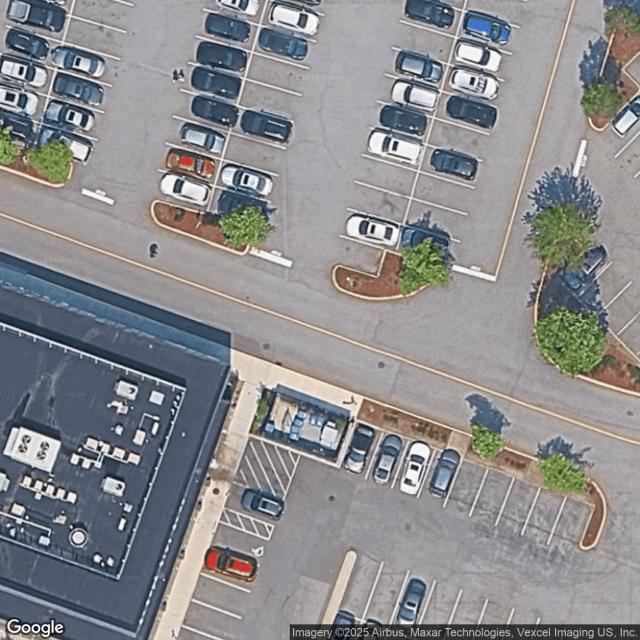car: (6, 0, 70, 37), (36, 126, 93, 167), (443, 92, 501, 132), (367, 129, 424, 169), (376, 102, 433, 142), (392, 48, 449, 88), (446, 64, 503, 104), (387, 76, 445, 115), (155, 172, 213, 211), (162, 145, 220, 184), (171, 118, 229, 157), (187, 65, 245, 104), (265, 0, 323, 39), (237, 107, 295, 146), (218, 161, 276, 200), (212, 188, 270, 227), (51, 70, 105, 111), (203, 546, 260, 584), (54, 42, 108, 82), (396, 442, 435, 497), (43, 97, 96, 137), (345, 212, 402, 249), (257, 27, 313, 64), (428, 147, 482, 185), (393, 576, 429, 633), (0, 53, 51, 93), (461, 9, 515, 46), (196, 38, 250, 75), (341, 424, 378, 477), (368, 433, 405, 486), (425, 445, 462, 498), (1, 27, 55, 63), (189, 93, 240, 130), (451, 38, 505, 72), (405, 0, 462, 32), (205, 10, 254, 46), (238, 488, 288, 523), (399, 228, 453, 260), (0, 110, 35, 149), (0, 86, 39, 118), (323, 609, 361, 639), (355, 619, 386, 639)
lot_boundary: (0, 0, 572, 323), (166, 421, 639, 639)
